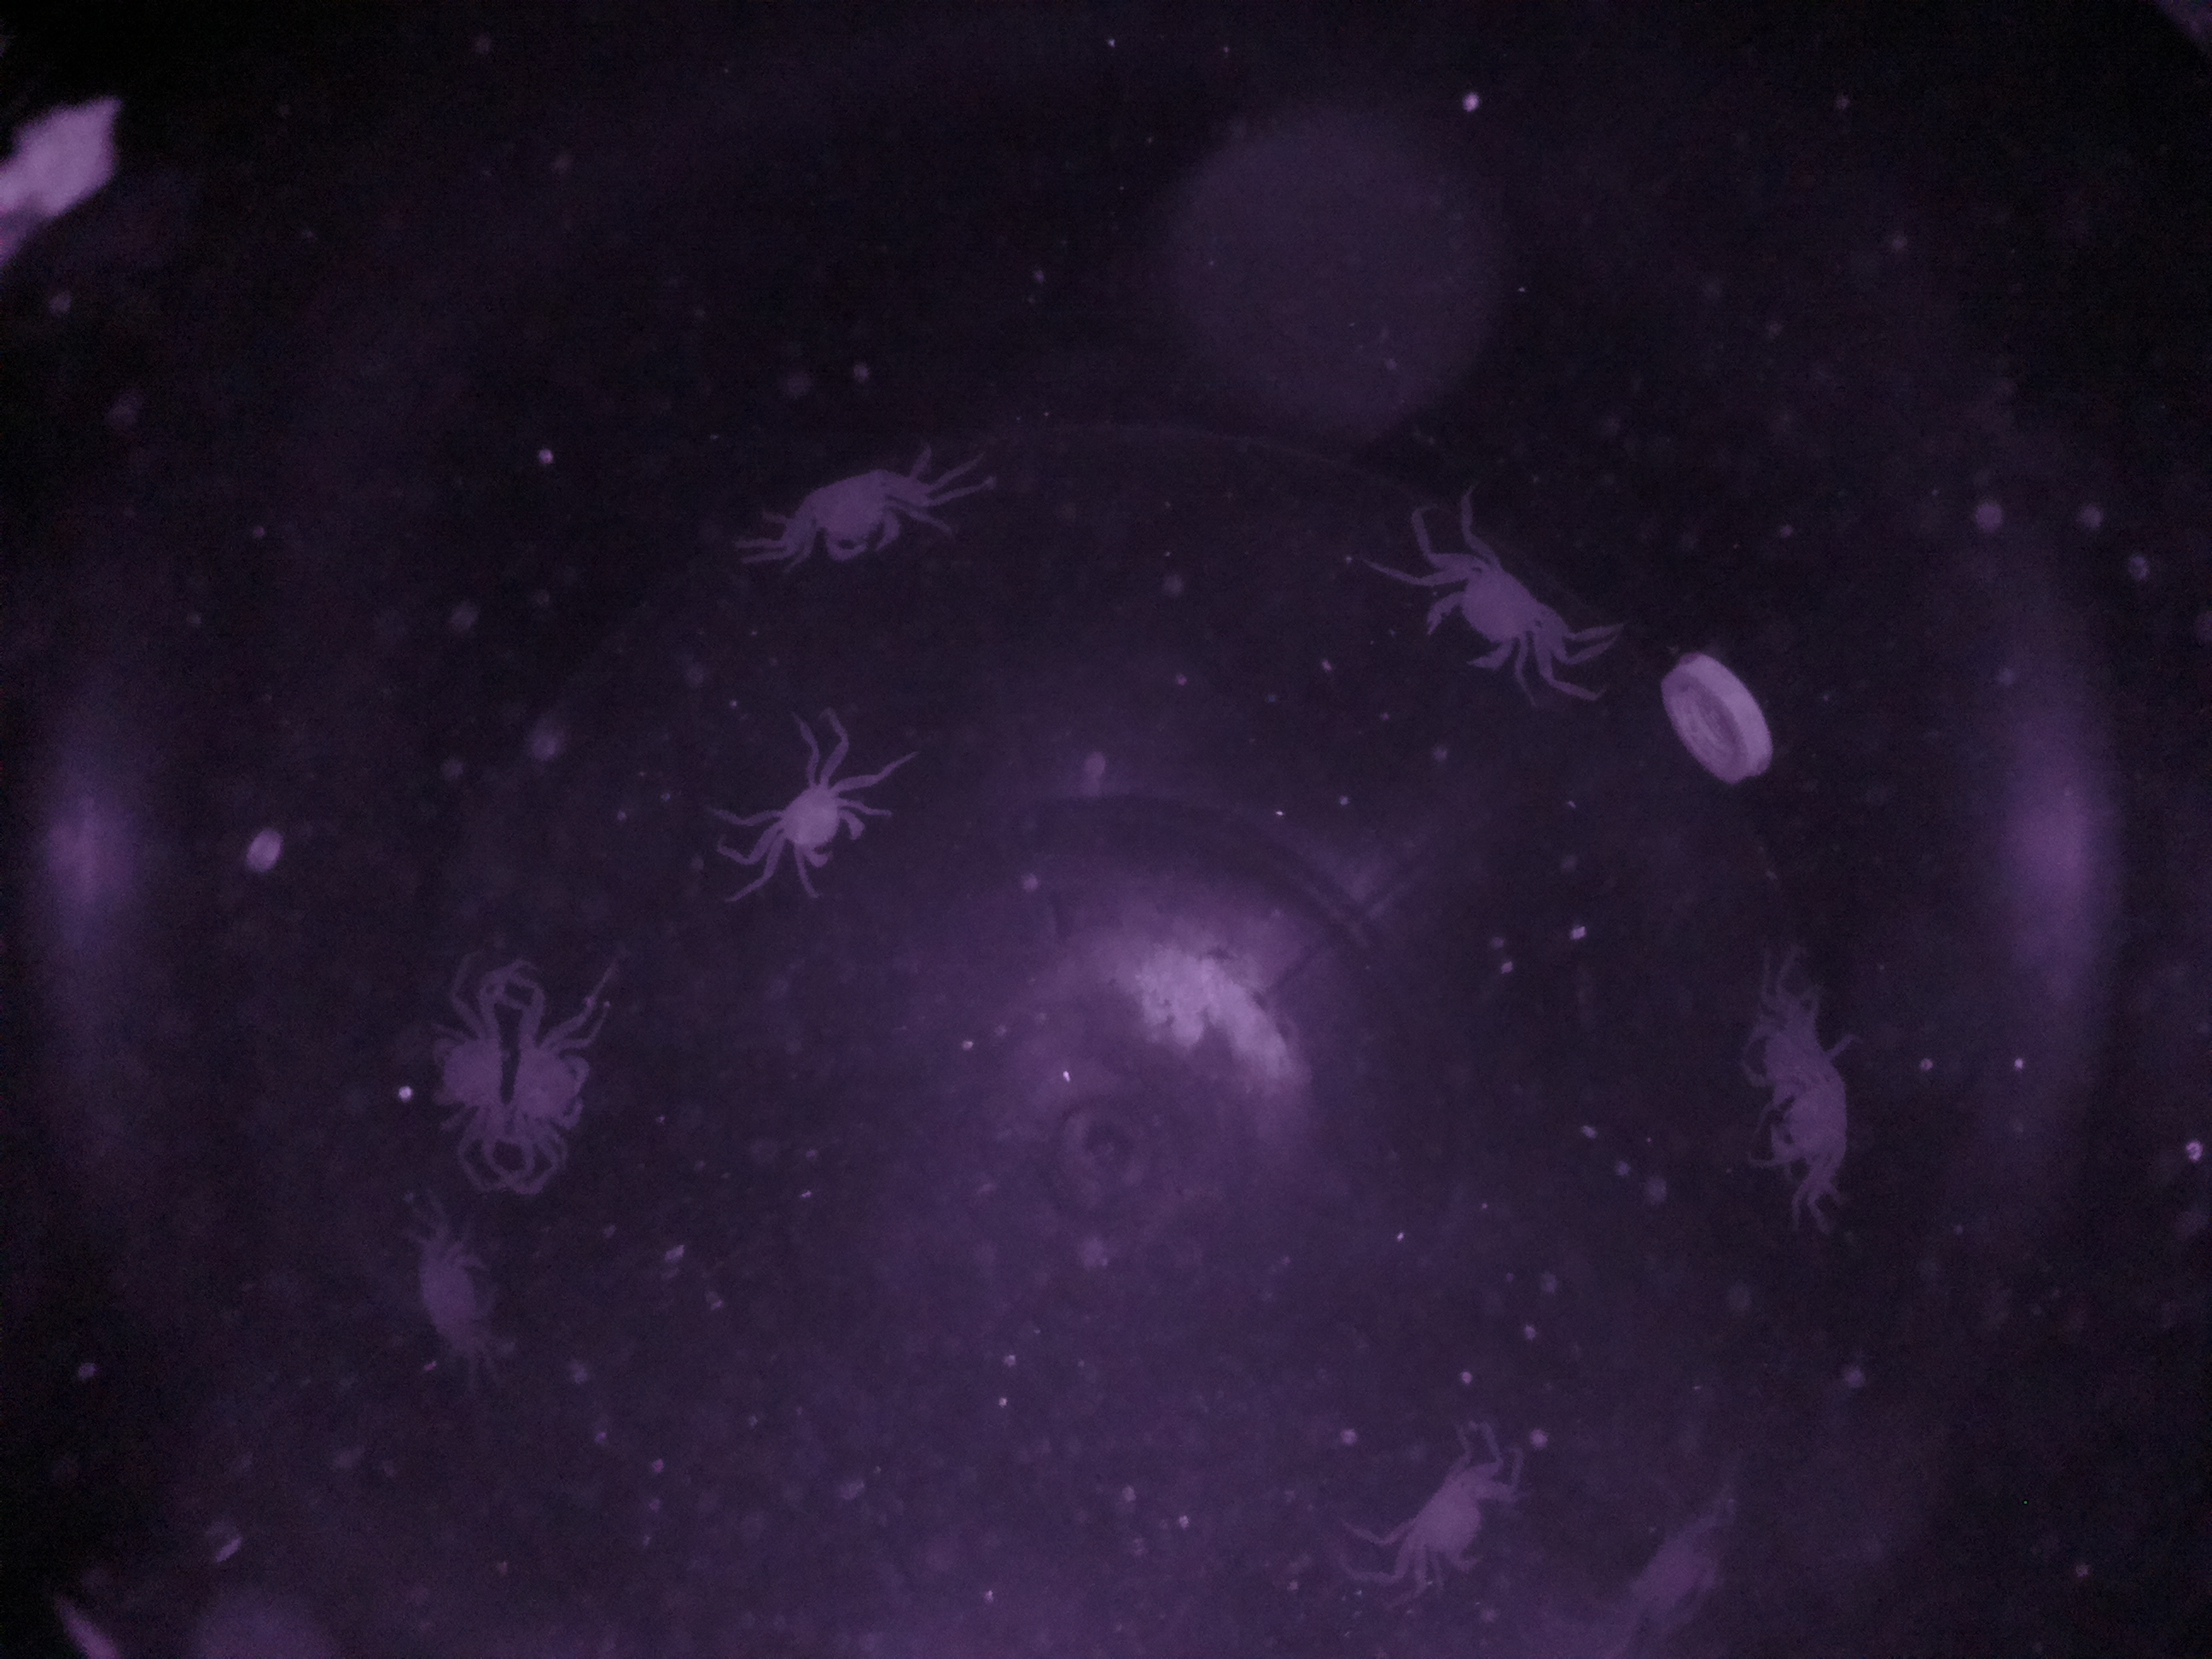Crab: (1378, 528, 1601, 692), (773, 436, 930, 599), (747, 751, 902, 906), (1374, 1445, 1536, 1593), (509, 971, 622, 1171)
